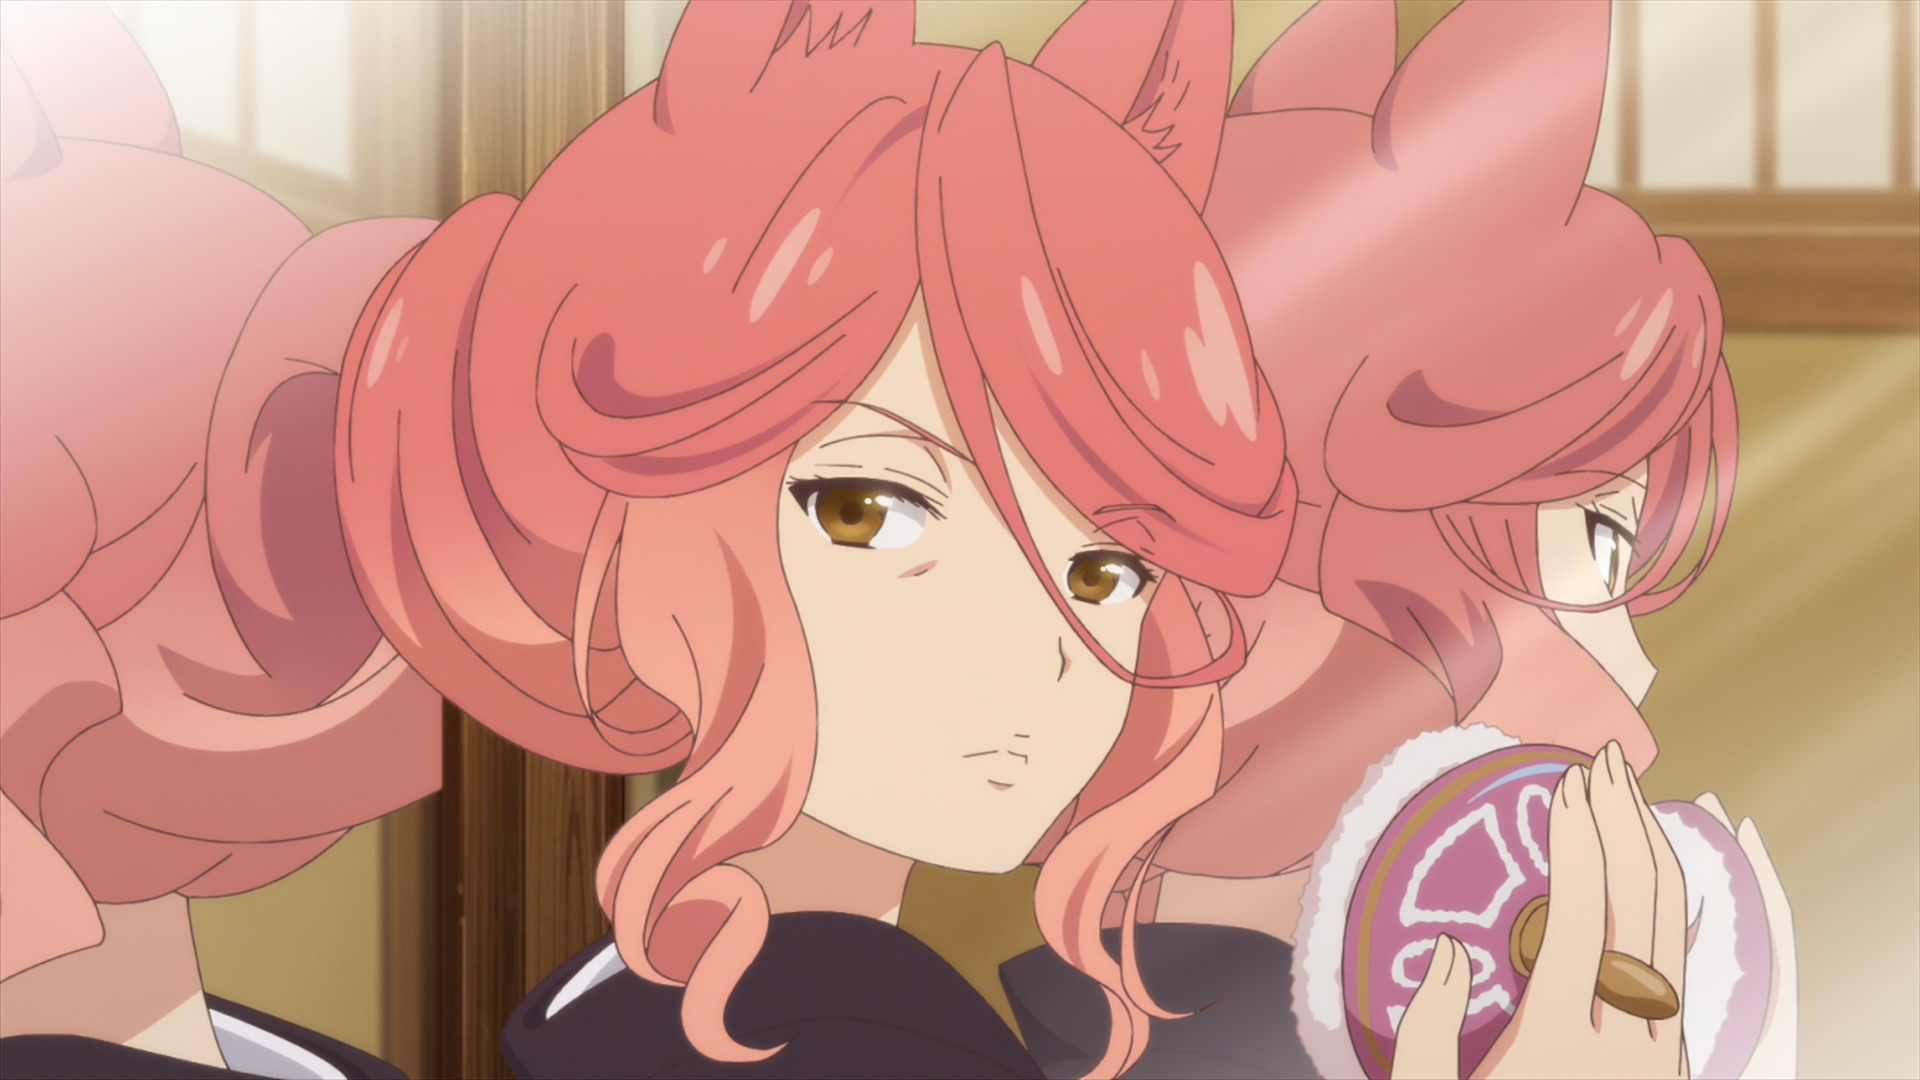椿: (334, 1, 1300, 1080), (998, 1, 1797, 1080), (1, 1, 444, 1080)
